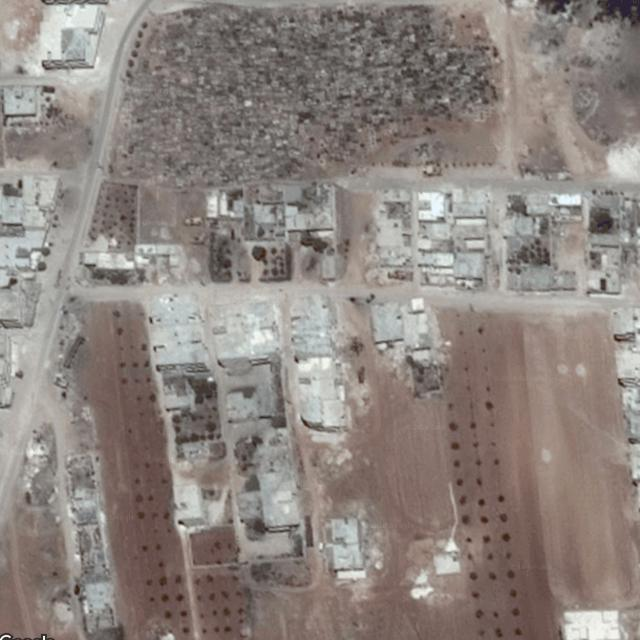damaged_building: (284, 295, 358, 359)
